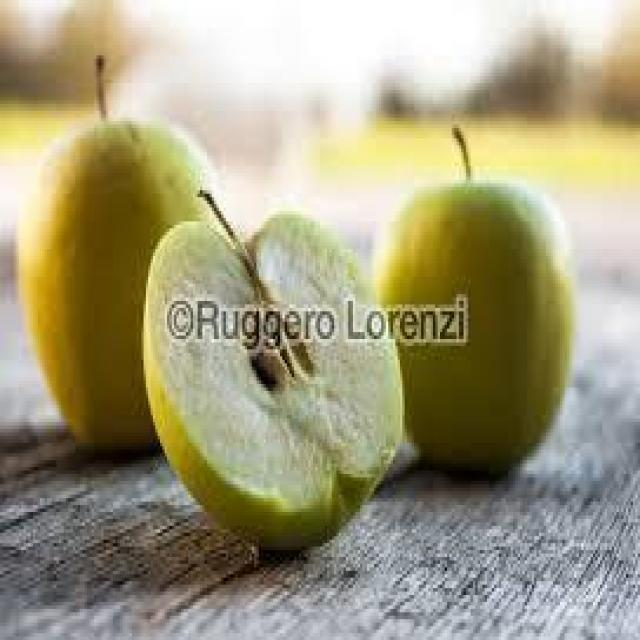maca: (141, 187, 407, 550), (16, 52, 219, 453), (372, 124, 576, 474)
